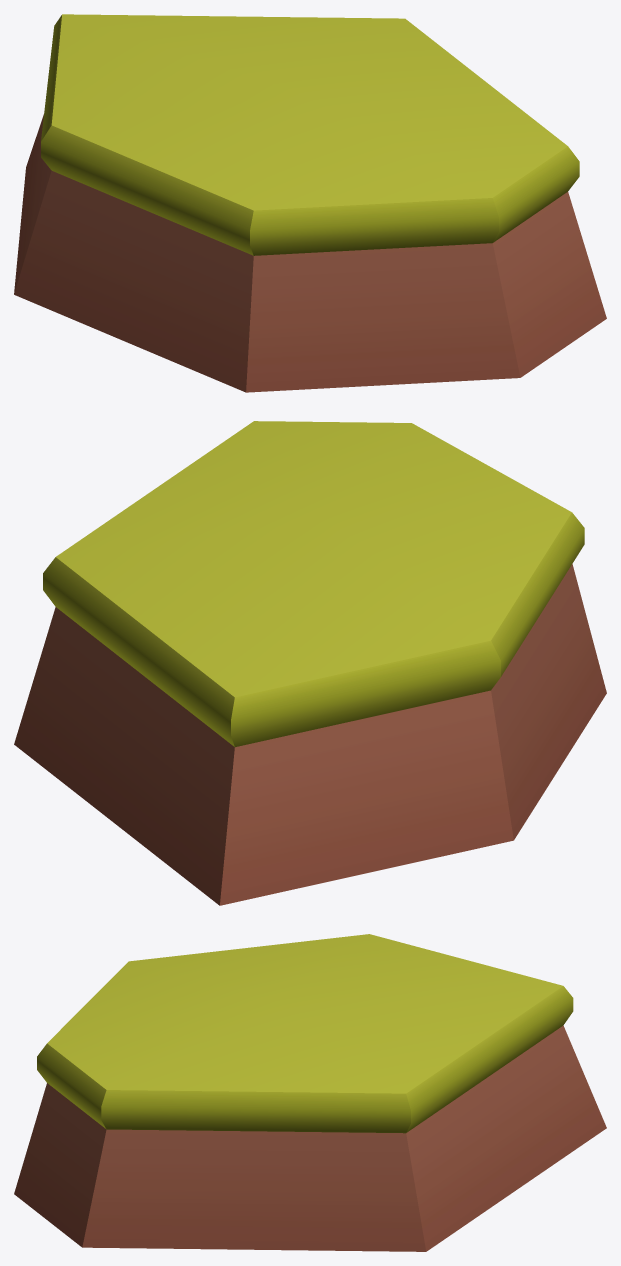
Rendered from kaykit-medieval-hexagon-pack-hill-single-b.glb.
3 views of the same model, one above another, from view 1: azimuth 30°, elevation 25°; view 2: azimuth 150°, elevation 25°; view 3: azimuth 270°, elevation 25° (orthographic). The views are drawn at different scales.
Visible parts, largest first — view 1: hill_single_B; view 2: hill_single_B; view 3: hill_single_B.
Boxes of the visible parts, <box> form: hill_single_B: <box>14,14,606,392</box>; hill_single_B: <box>14,421,606,905</box>; hill_single_B: <box>14,934,606,1251</box>.
Size of the model in its own units: 0.995 by 0.4187 by 1.36.
1 material, 1 textured.
